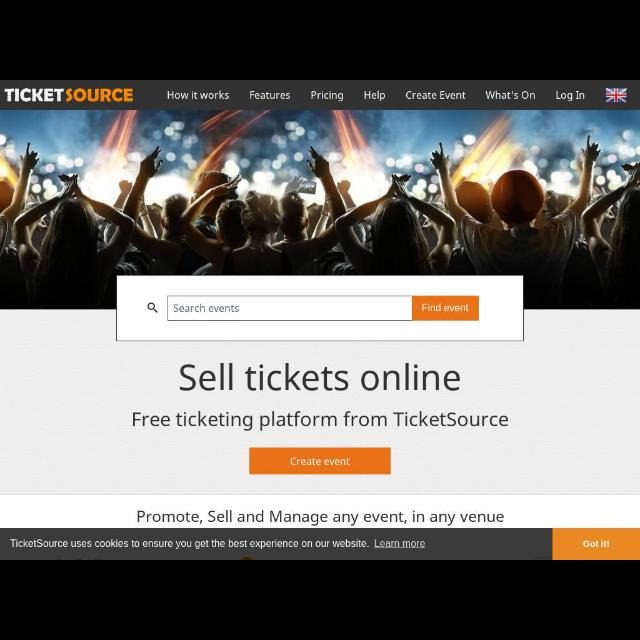icon: (148, 302, 158, 314)
iframe: (1, 528, 640, 560)
image: (1, 111, 640, 309), (5, 88, 134, 102), (605, 88, 627, 102)
input: (168, 296, 410, 320)
panel: (117, 276, 525, 342)
text: (180, 363, 460, 392), (133, 411, 509, 431), (137, 510, 505, 526), (9, 538, 425, 550), (173, 304, 239, 314), (167, 90, 230, 100), (406, 90, 466, 100), (486, 90, 536, 100), (422, 303, 470, 313), (291, 458, 351, 466), (250, 90, 292, 100), (311, 90, 343, 102), (555, 91, 585, 103), (364, 90, 386, 102), (584, 540, 610, 548)
textbutton: (250, 448, 392, 474), (552, 528, 640, 560), (412, 296, 478, 322)
toolbar: (1, 80, 640, 110)
